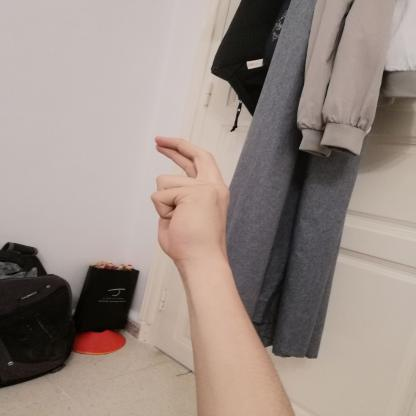ZAY: (135, 128, 243, 268)
